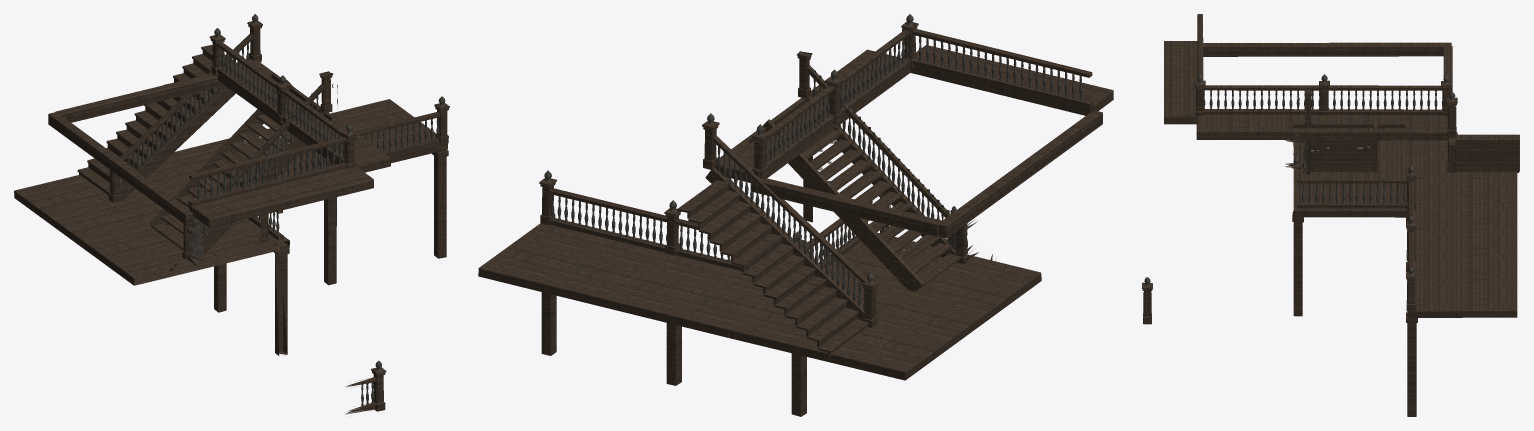
Rendered from grand_staircase_aaa.glb.
3 renders of one model, left to right at view 1: azimuth 30°, elevation 25°; view 2: azimuth 150°, elevation 25°; view 3: azimuth 270°, elevation 25°, orthographic. The views are drawn at different scales.
Visible parts, largest first — view 1: StairStructure, ReturnStairStructure, StairBalusters, ReturnStairBalusters; view 2: StairStructure, ReturnStairStructure, StairBalusters, ReturnStairBalusters; view 3: StairStructure, ReturnStairStructure, StairBalusters.
Boxes of the visible parts, box(x1,y1,x2,y2) form: StairStructure: box(14, 20, 449, 414); ReturnStairStructure: box(149, 71, 336, 266); StairBalusters: box(114, 14, 445, 407); ReturnStairBalusters: box(188, 84, 337, 256); StairStructure: box(478, 21, 1113, 416); ReturnStairStructure: box(749, 51, 978, 291); StairBalusters: box(544, 14, 1082, 310); ReturnStairBalusters: box(813, 70, 967, 253); StairStructure: box(1142, 14, 1519, 416); ReturnStairStructure: box(1285, 89, 1405, 234); StairBalusters: box(1144, 74, 1455, 286).
Size of the model in its own units: 12.36 by 8.33 by 11.46.
3 materials, 3 textured.
